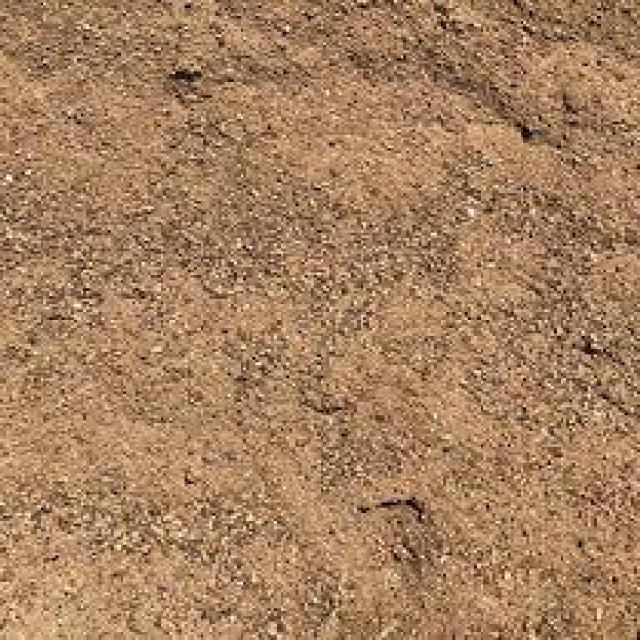white-sand: (0, 1, 639, 639)
